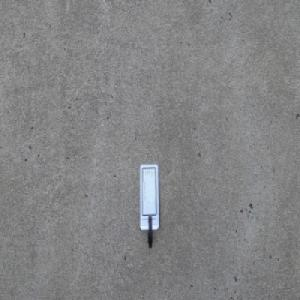LuggageTag: (139, 163, 159, 248)
